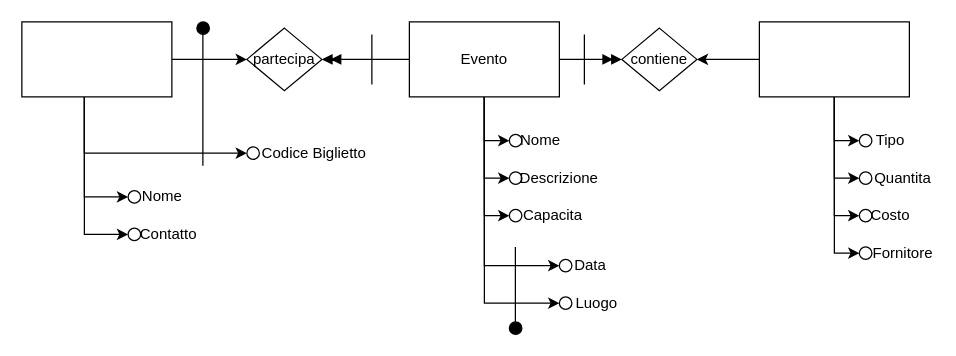
This 956x356 diagram has some shape labels left out. Here are the shapes that lost their labels. From the top down, the box of each, then its label:
(21, 21, 172, 97): Partecipante
(758, 21, 909, 97): Risorsa
